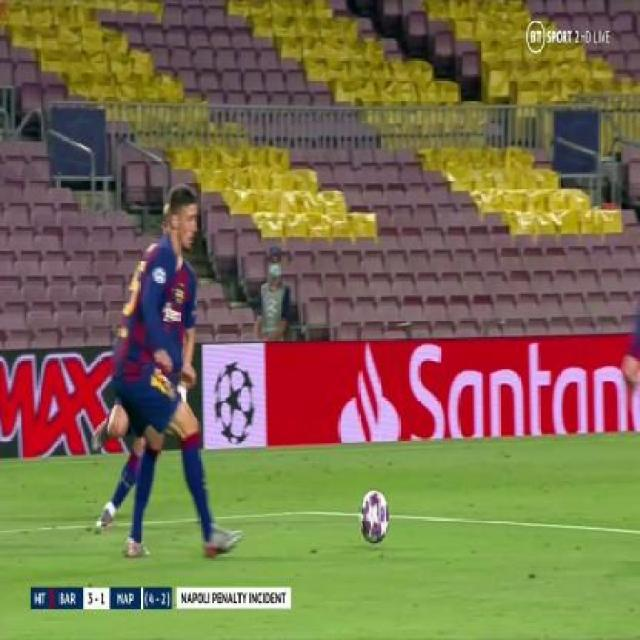ball: (353, 482, 395, 550)
player: (85, 183, 233, 569)
